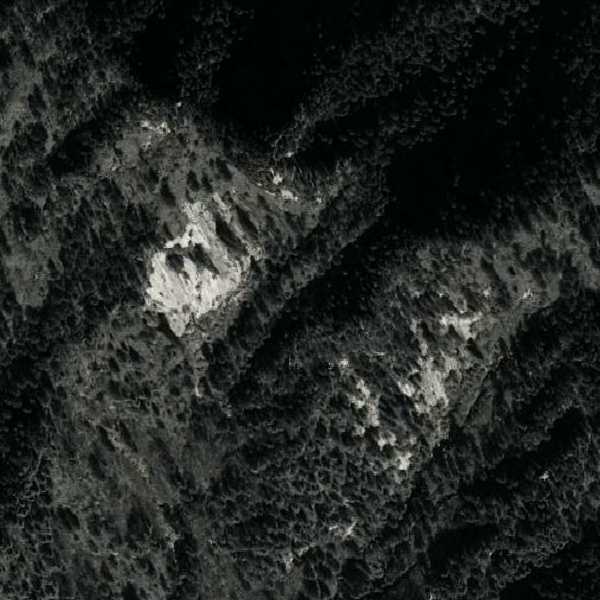slope: (147, 197, 259, 341)
